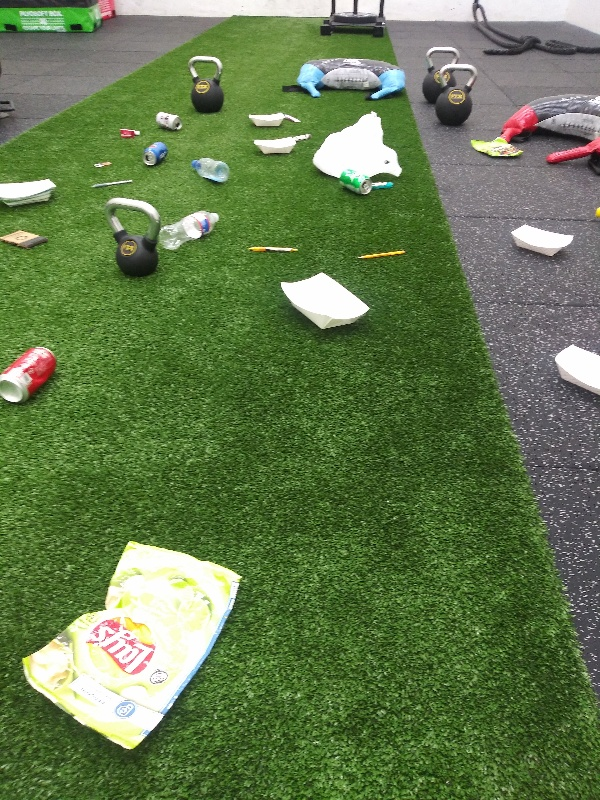bag: (18, 533, 246, 762), (467, 132, 527, 163)
bottle: (157, 206, 227, 252), (186, 157, 231, 184)
can: (1, 344, 62, 408), (334, 167, 375, 198), (138, 141, 171, 169), (153, 110, 184, 133)
plate: (278, 268, 373, 344), (548, 341, 600, 404), (508, 223, 578, 259), (2, 175, 60, 212), (248, 136, 298, 156), (245, 109, 290, 129)
